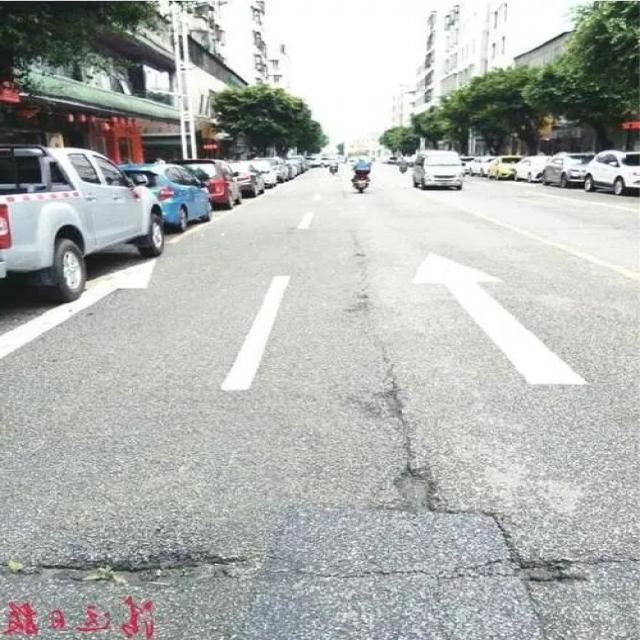pothole: (3, 549, 245, 588), (389, 467, 440, 514), (369, 385, 408, 422), (521, 561, 575, 586)
